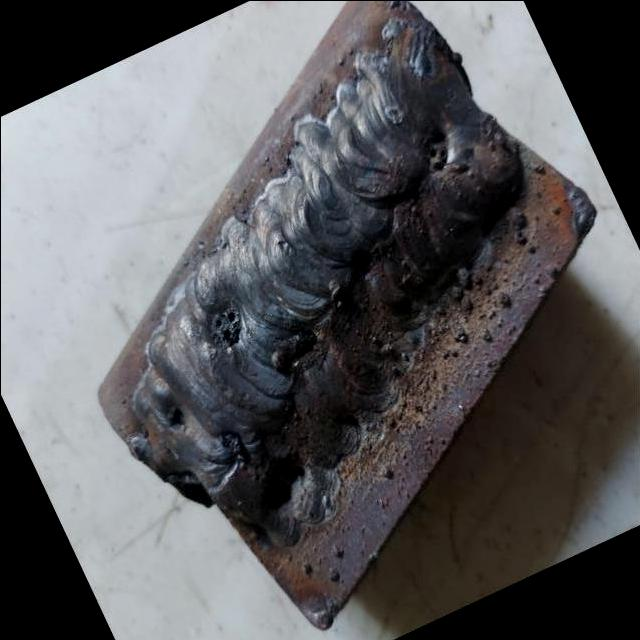defect: (204, 300, 244, 352), (216, 426, 256, 474), (424, 122, 453, 180), (164, 404, 191, 437), (352, 243, 375, 274), (384, 103, 402, 122)
